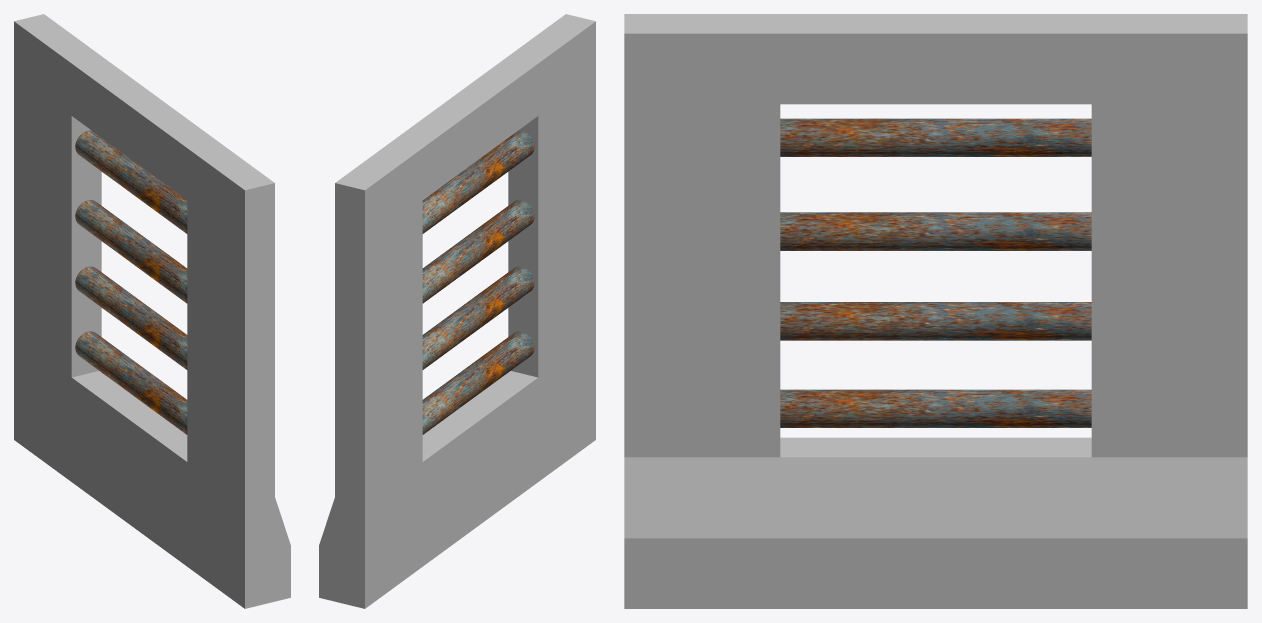
The model's file is wall 3_v1.fbx.
3 renders of one model, left to right at view 1: azimuth 30°, elevation 25°; view 2: azimuth 150°, elevation 25°; view 3: azimuth 270°, elevation 25°, orthographic. The views are drawn at different scales.
Visible parts, largest first — view 1: Plane.009, Cylinder.001, Cylinder.002, Cylinder.003, Cylinder; view 2: Plane.009, Cylinder.001, Cylinder.002, Cylinder.003, Cylinder; view 3: Plane.009, Cylinder, Cylinder.001, Cylinder.002, Cylinder.003.
Part boxes in pixels (left/top/right/bottom): Plane.009: left=14, top=14, right=290, bottom=608; Cylinder.001: left=75, top=331, right=187, bottom=434; Cylinder.002: left=75, top=200, right=187, bottom=303; Cylinder.003: left=75, top=266, right=187, bottom=369; Cylinder: left=75, top=130, right=187, bottom=233; Plane.009: left=319, top=14, right=595, bottom=608; Cylinder.001: left=422, top=331, right=534, bottom=434; Cylinder.002: left=422, top=200, right=534, bottom=303; Cylinder.003: left=422, top=266, right=534, bottom=369; Cylinder: left=422, top=130, right=534, bottom=233; Plane.009: left=624, top=14, right=1247, bottom=608; Cylinder: left=780, top=118, right=1091, bottom=156; Cylinder.001: left=780, top=389, right=1091, bottom=427; Cylinder.002: left=780, top=212, right=1091, bottom=250; Cylinder.003: left=780, top=302, right=1091, bottom=340.
Size of the model in its own units: 23 by 200 by 200.
